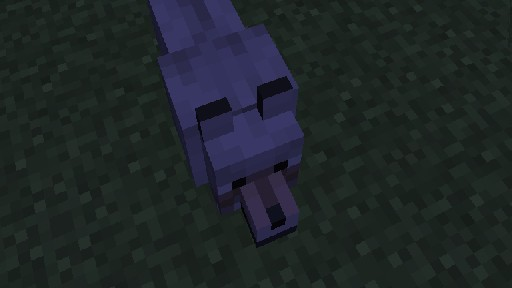wolf: (141, 0, 304, 247)
